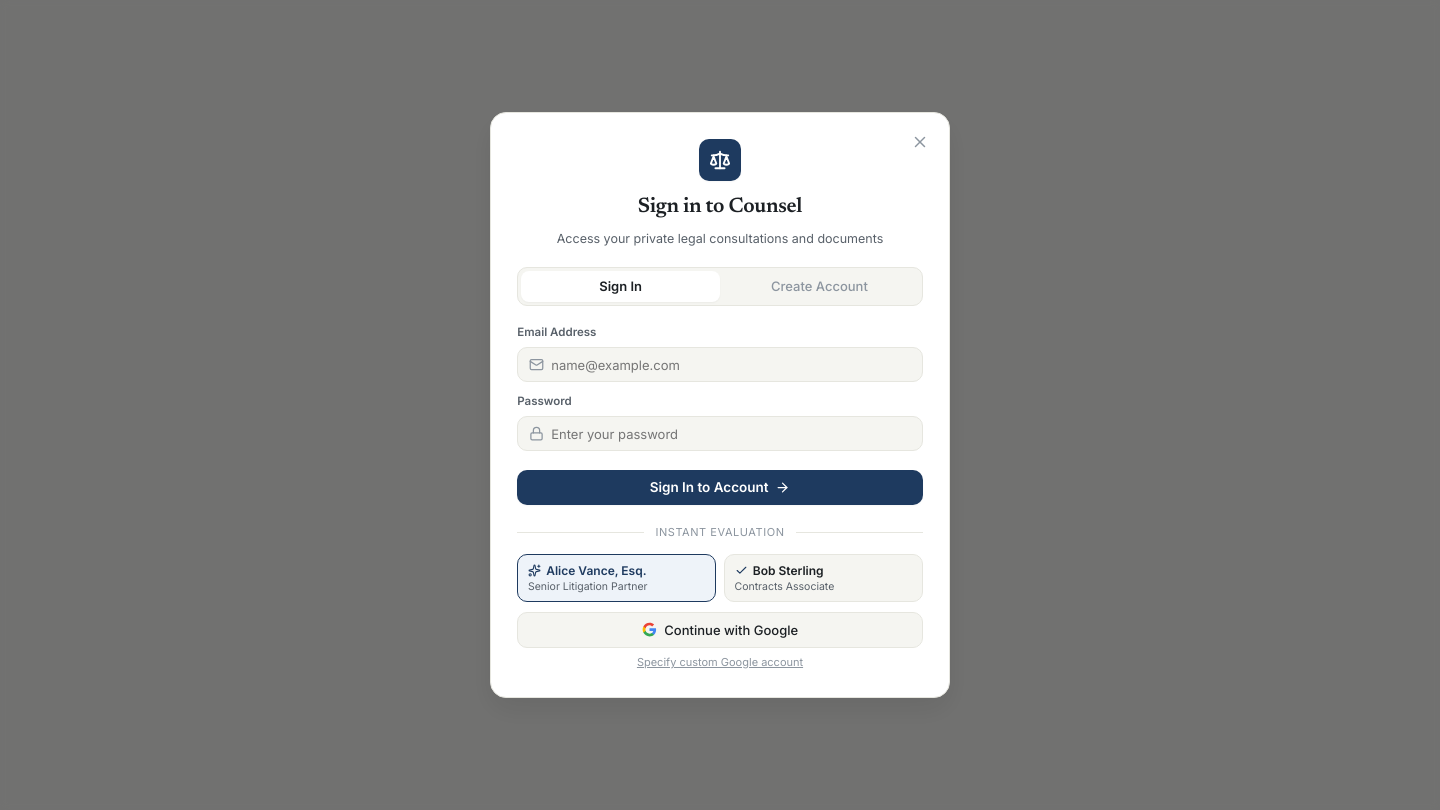
Scenario: AuthModal Component & Registration Flow › validates password length in Create Account
The image size is (1440, 810).
Step 1. Click the tab with aria-label "Create Account Tab" → {"x": 819, "y": 286}, box 720,271 -> 919,302
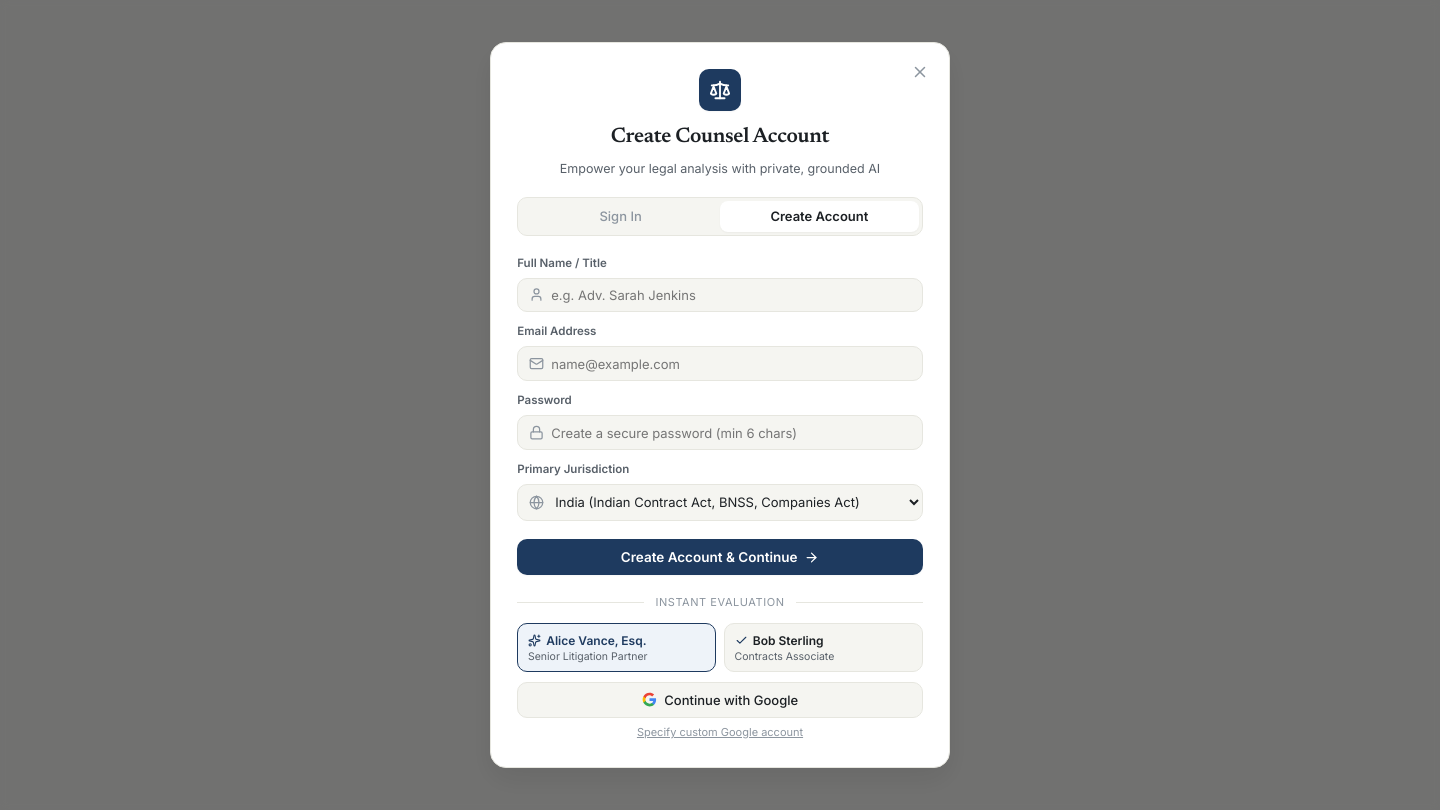
Step 2. Type "Sarah" into the field with placeholder "e.g. Adv. Sarah Jenkins" → {"x": 720, "y": 295}, box 517,278 -> 923,312
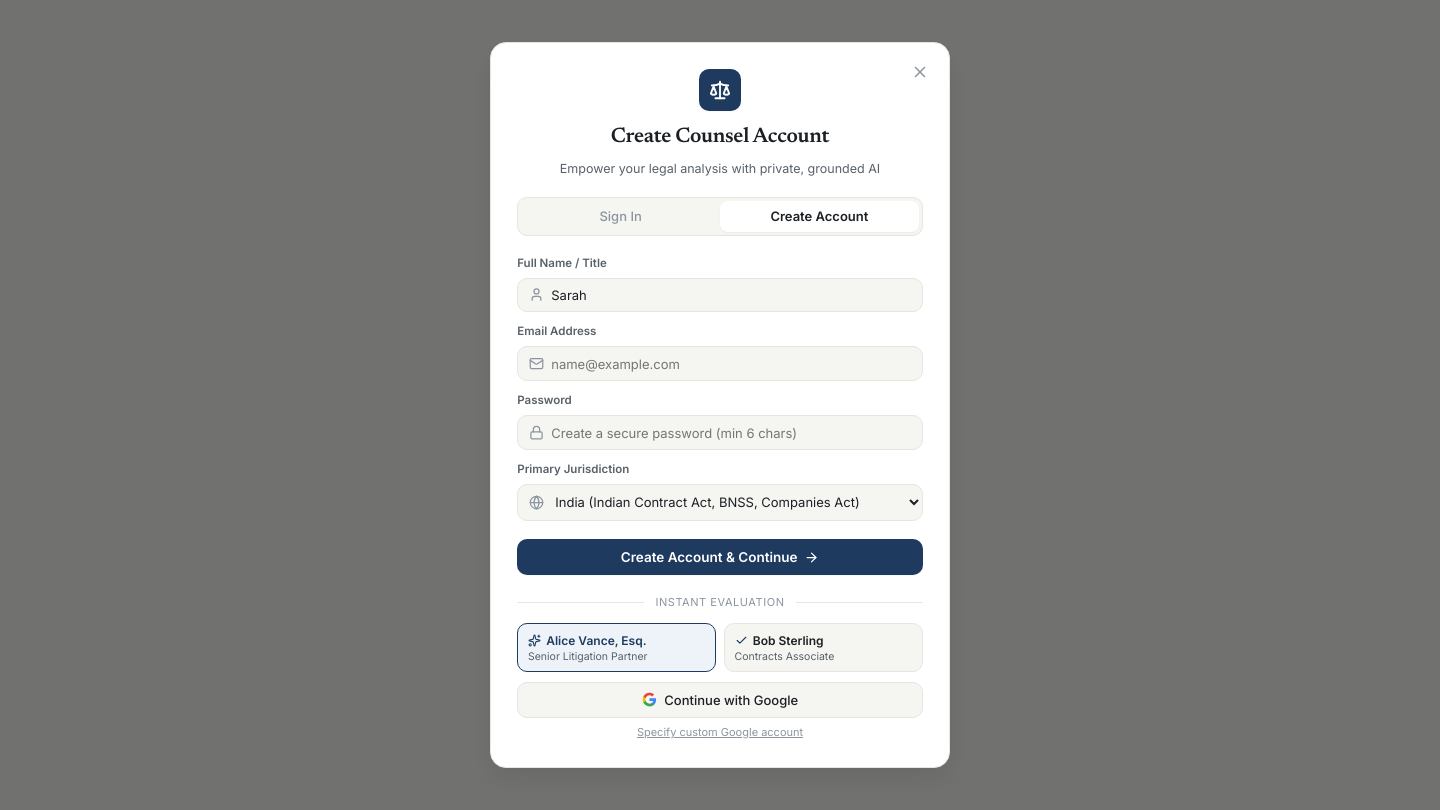
Step 3. Type "sarah@firm.com" into the field with placeholder "name@example.com" → {"x": 720, "y": 364}, box 517,346 -> 923,381
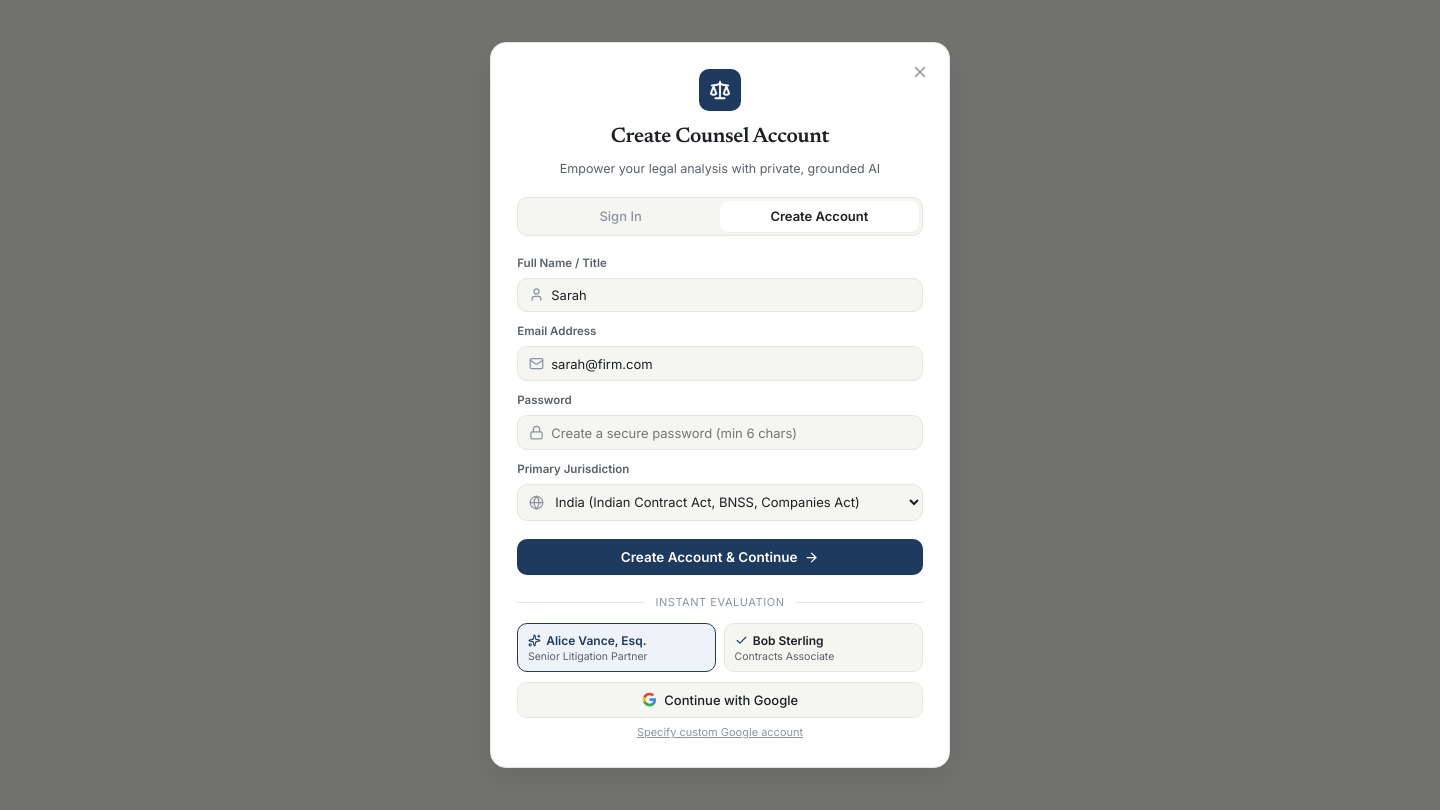
Step 4. Type "123" into the password field with placeholder "Create a secure password (min 6 chars)" → {"x": 720, "y": 433}, box 517,415 -> 923,450
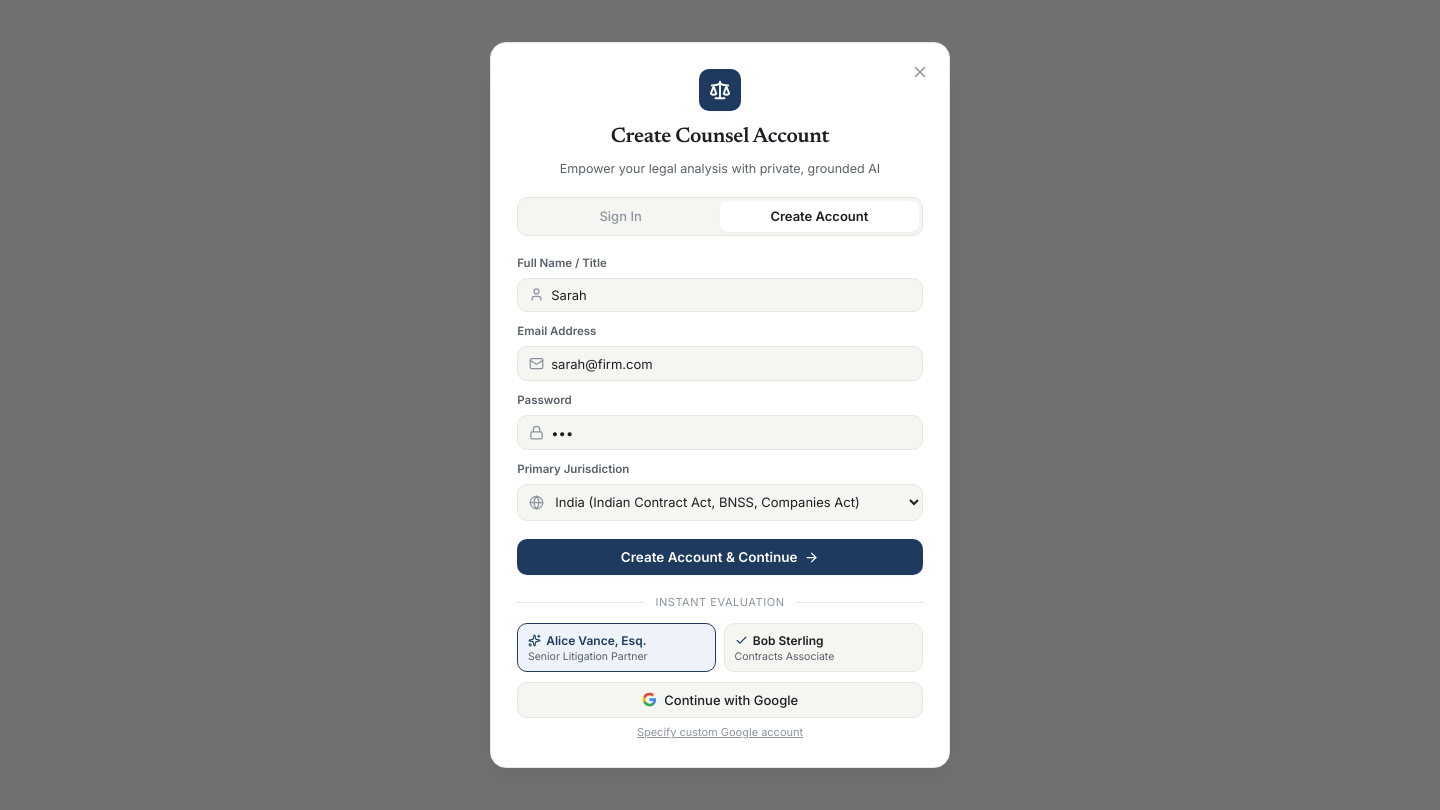
Step 5. Click the button "Create Account & Continue" → {"x": 720, "y": 557}, box 517,539 -> 923,575
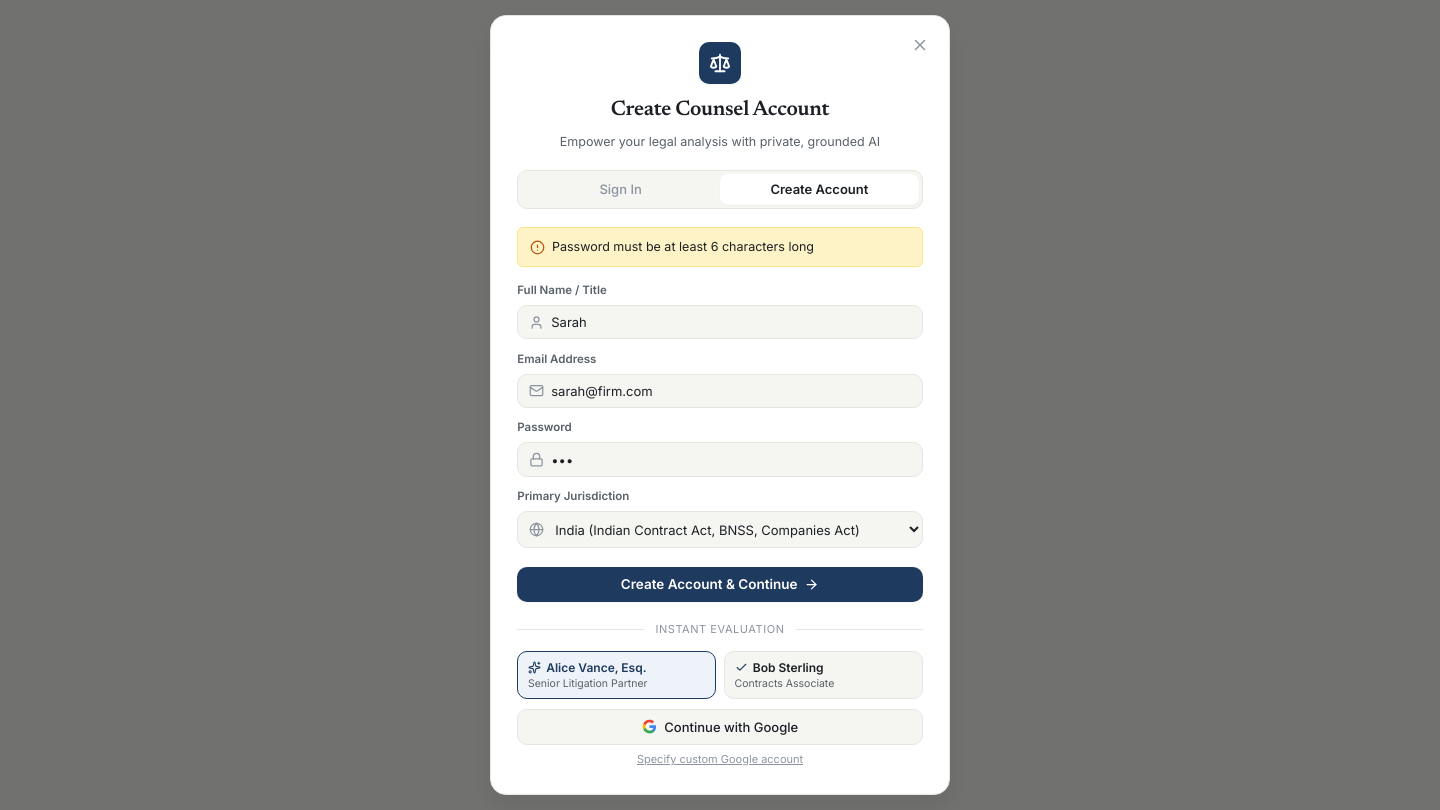
Now the text "Password must be at least 6 characters long" is shown, box 552,237 -> 814,257
